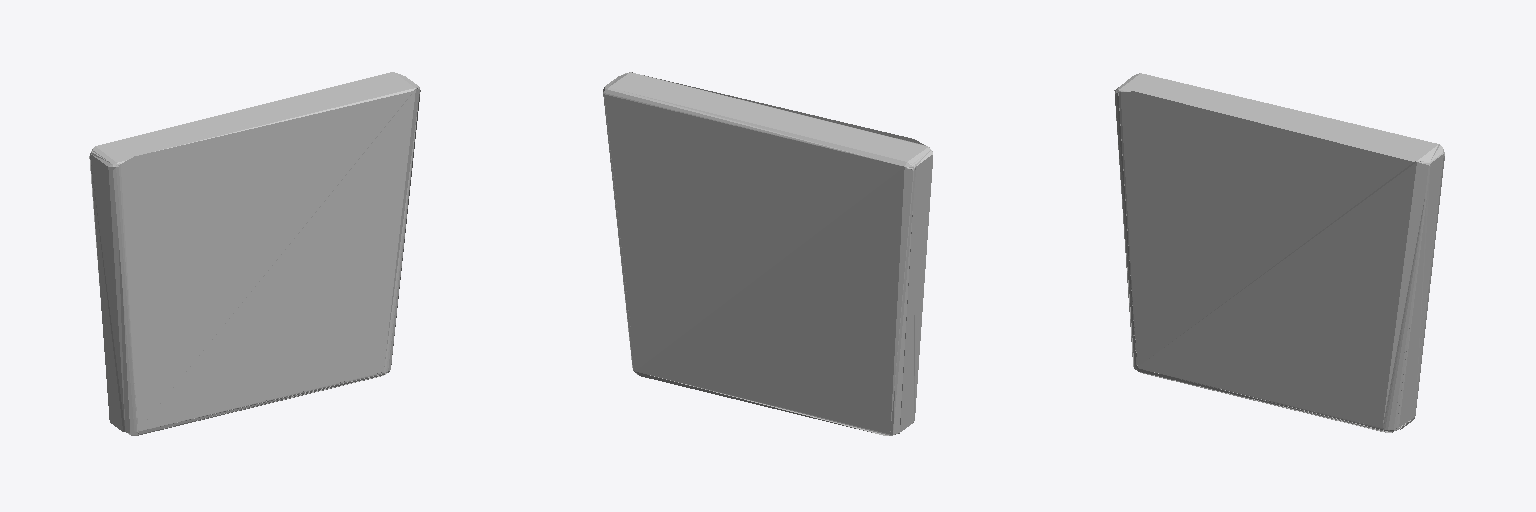
The model's file is right_arm.obj.
3 views of the same model, side by side, from view 1: azimuth 30°, elevation 25°; view 2: azimuth 150°, elevation 25°; view 3: azimuth 330°, elevation 25° (orthographic).
Visible parts, largest first — view 1: right_arm_mesh10.002_mesh10-geometry; view 2: right_arm_mesh10.002_mesh10-geometry; view 3: right_arm_mesh10.002_mesh10-geometry.
Part boxes in pixels (x1,y1,x2,y2): right_arm_mesh10.002_mesh10-geometry: (89,72,420,435); right_arm_mesh10.002_mesh10-geometry: (603,72,932,435); right_arm_mesh10.002_mesh10-geometry: (1114,73,1444,432).
Bounding box in the file's own units: 0.299 × 0.2559 × 0.0418.